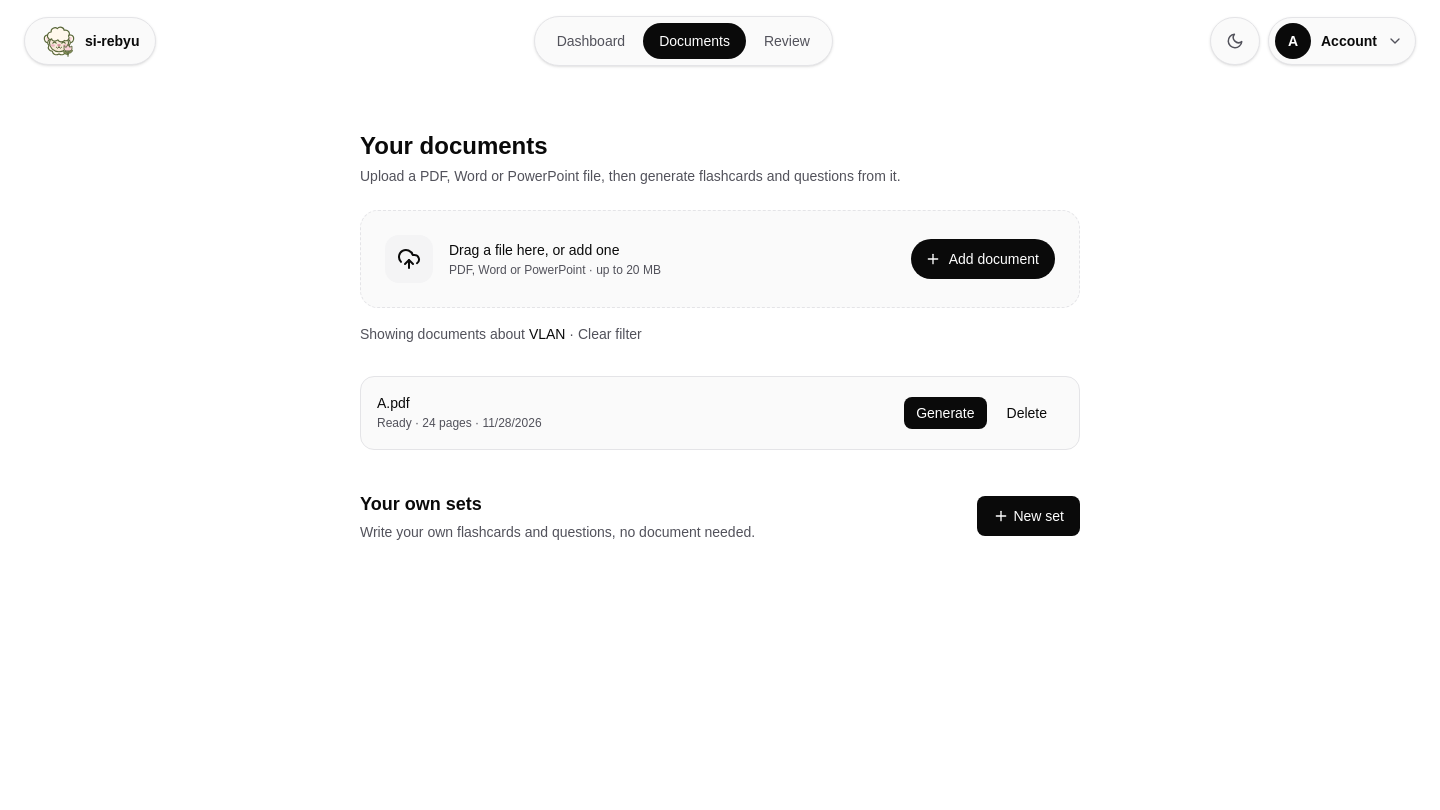
Test case: Documents page: topic filter › opening Generate while filtered passes the topic through to the modal
This screenshot has width=1440, height=810.
Click the button "Generate": x=945, y=413 left=904, top=397, right=987, bottom=429
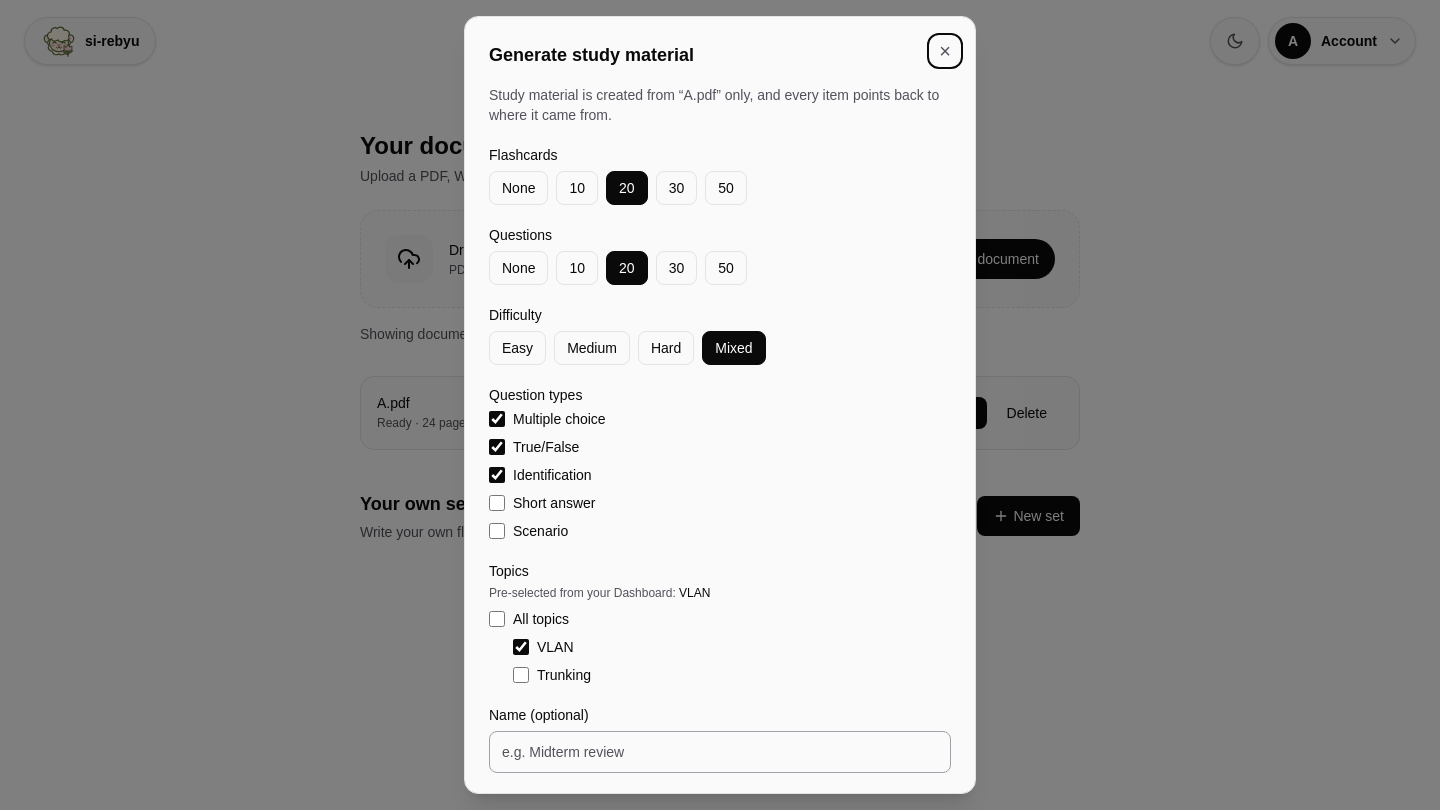
Now the checkbox labelled "VLAN" is checked, box left=513, top=639, right=529, bottom=655
